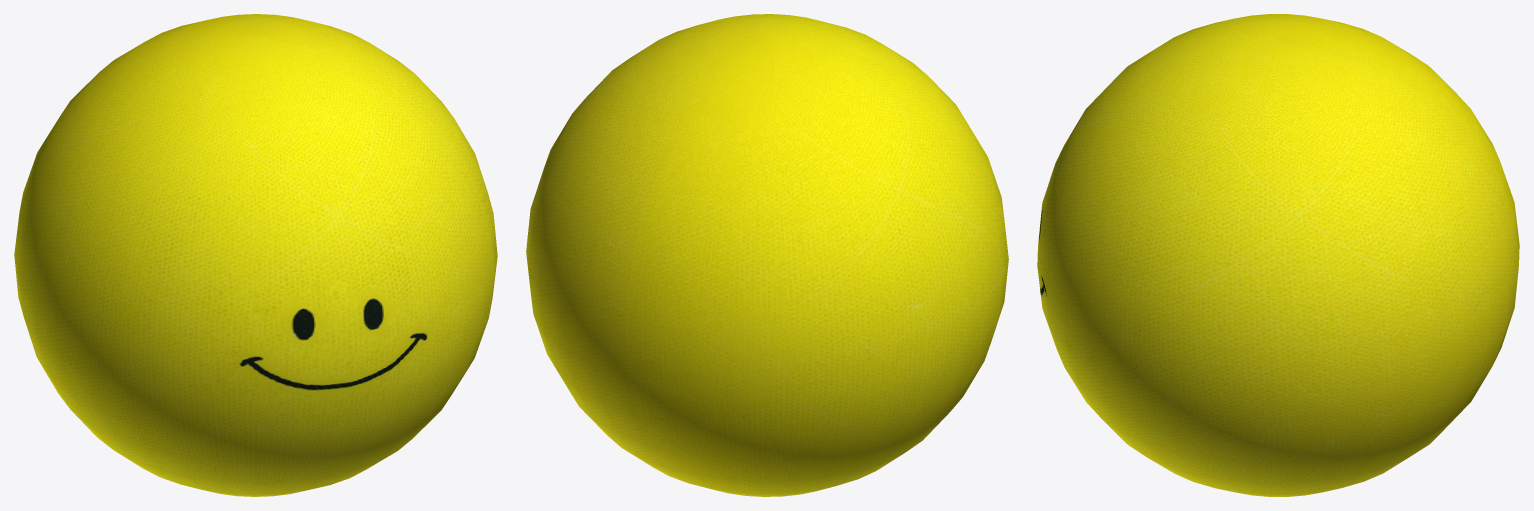
Rendered from emoji.a12e53c4.glb.
3 renders of one model, left to right at view 1: azimuth 30°, elevation 25°; view 2: azimuth 150°, elevation 25°; view 3: azimuth 270°, elevation 25°, orthographic.
Parts seen in each view (by area): view 1: smile emoji.005; view 2: smile emoji.005; view 3: smile emoji.005.
Part boxes in pixels (x1=…): smile emoji.005: x1=14, y1=14, x2=497, y2=496; smile emoji.005: x1=526, y1=14, x2=1008, y2=496; smile emoji.005: x1=1037, y1=14, x2=1519, y2=496.
Size of the model in its own units: 0.0686 by 0.0688 by 0.0686.
Materials: 1 (1 with a texture image).
